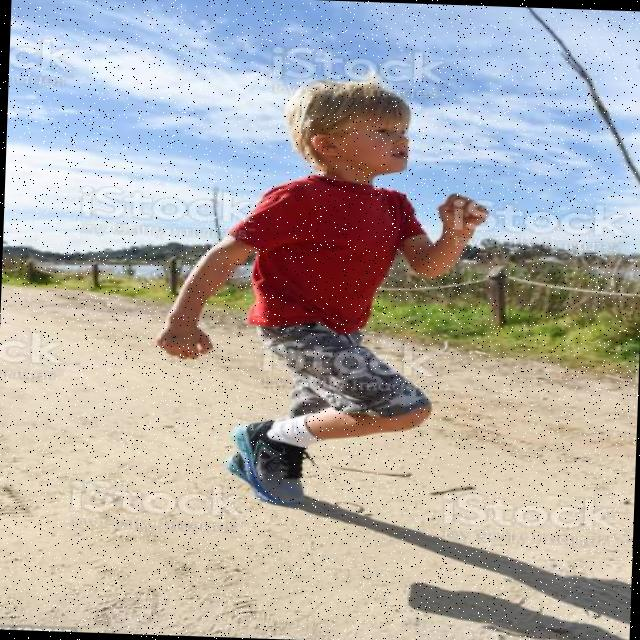Person: (149, 76, 490, 509)
